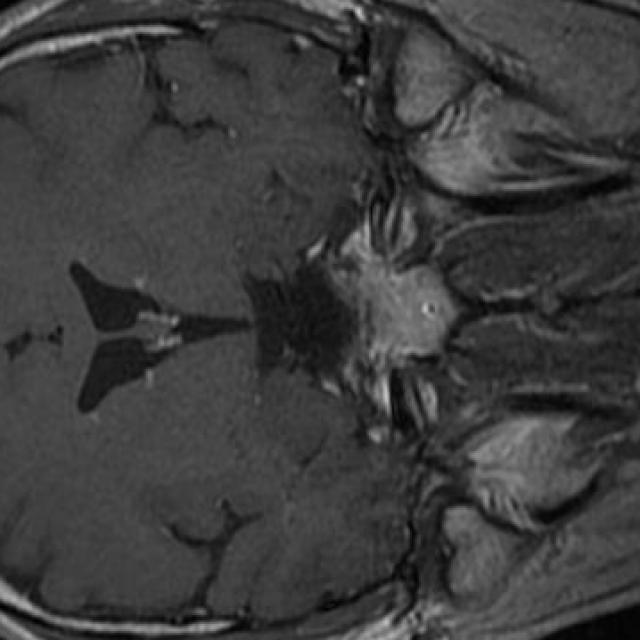pituitary: (333, 223, 456, 358)
